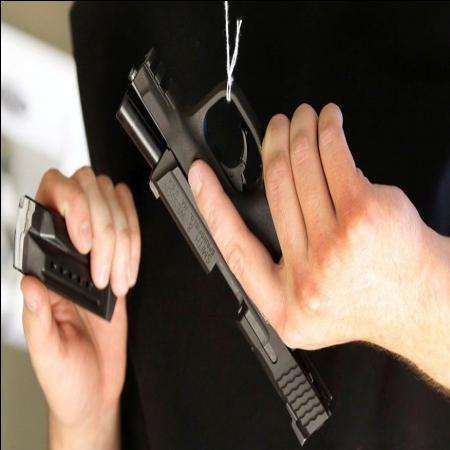Pistol: (114, 46, 373, 448)
